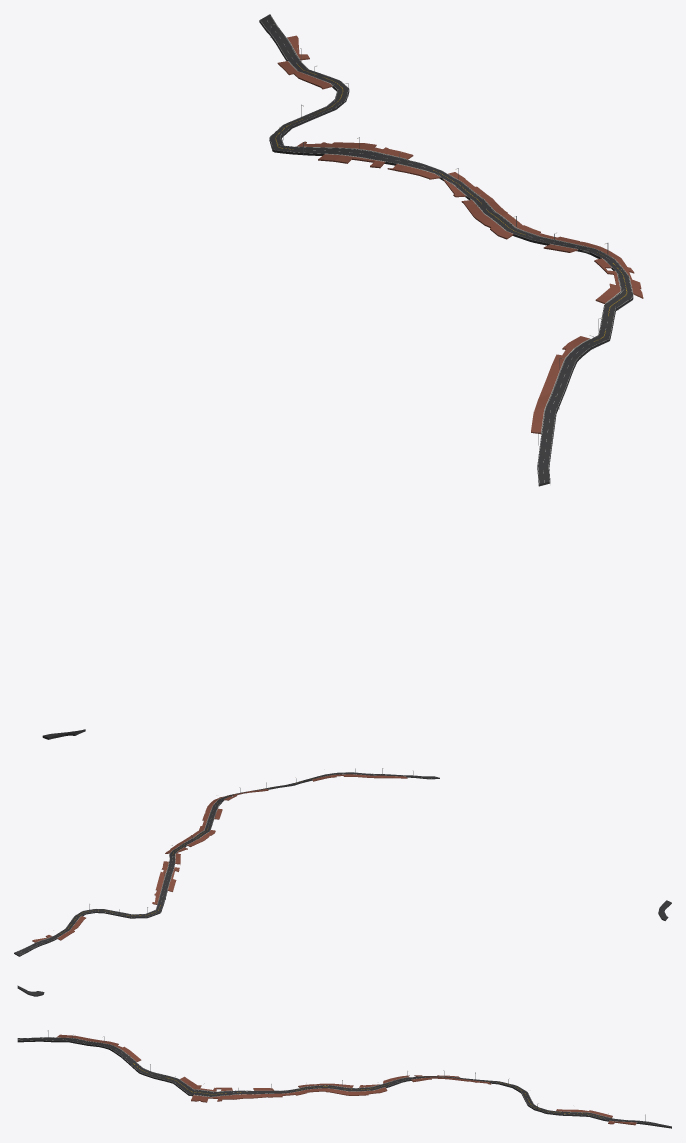
Rendered from 16-54730-29720.c4adfd7a.glb.
3 renders of one model, top to bottom at view 1: azimuth 30°, elevation 25°; view 2: azimuth 150°, elevation 25°; view 3: azimuth 270°, elevation 25°, orthographic. The views are drawn at different scales.
Size of the model in its own units: 460 by 117 by 586.
